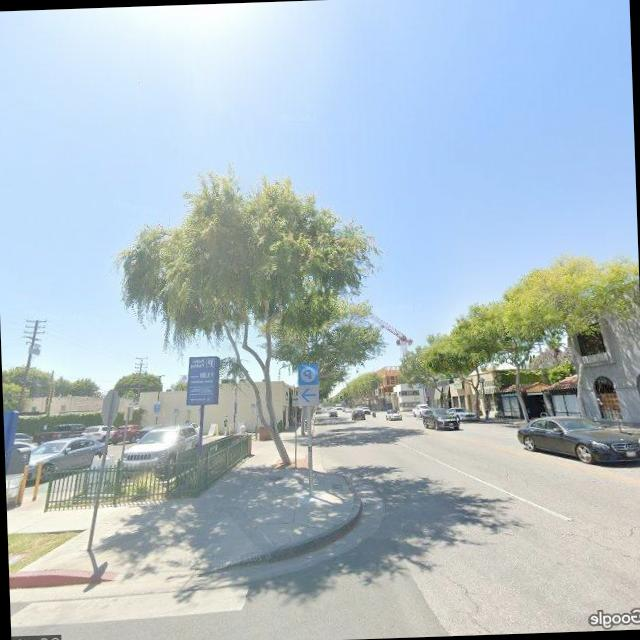pothole: (435, 567, 504, 635)
